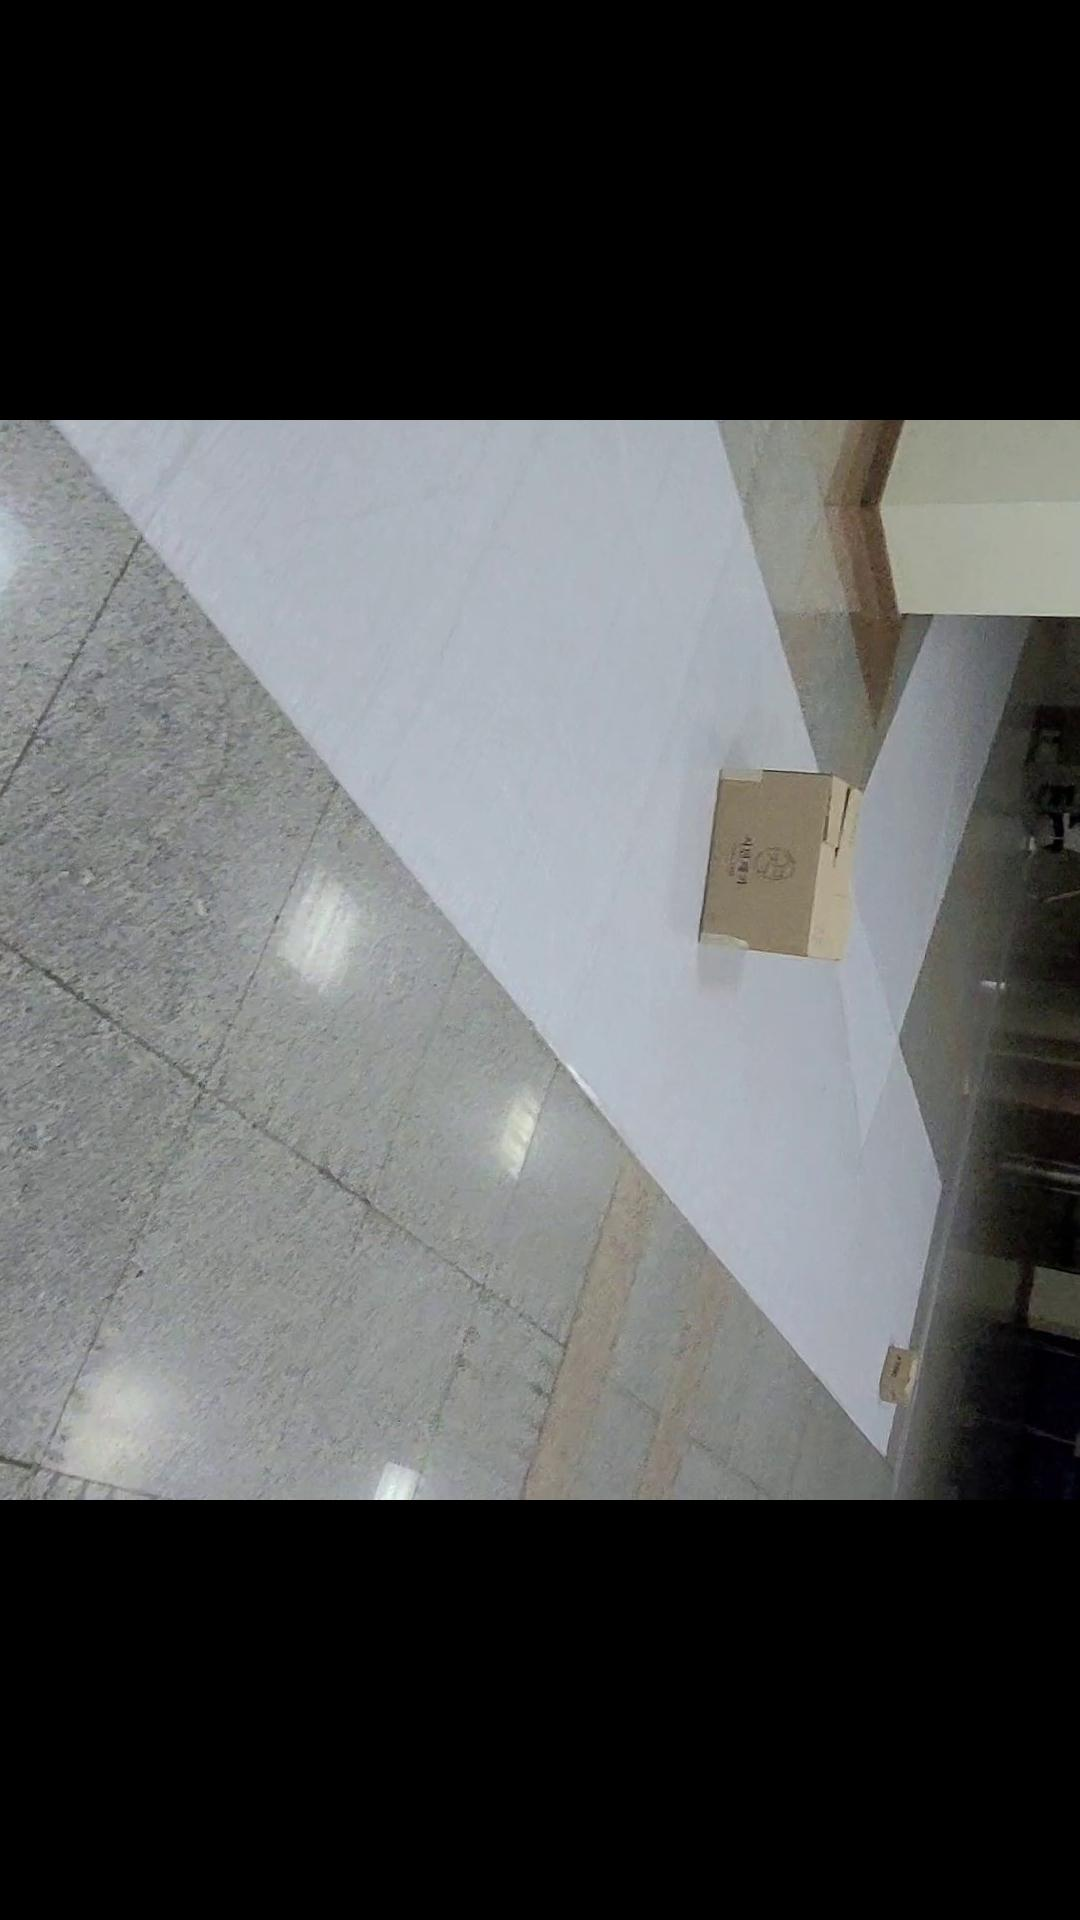Box: (662, 741, 882, 996), (858, 1342, 930, 1424)
